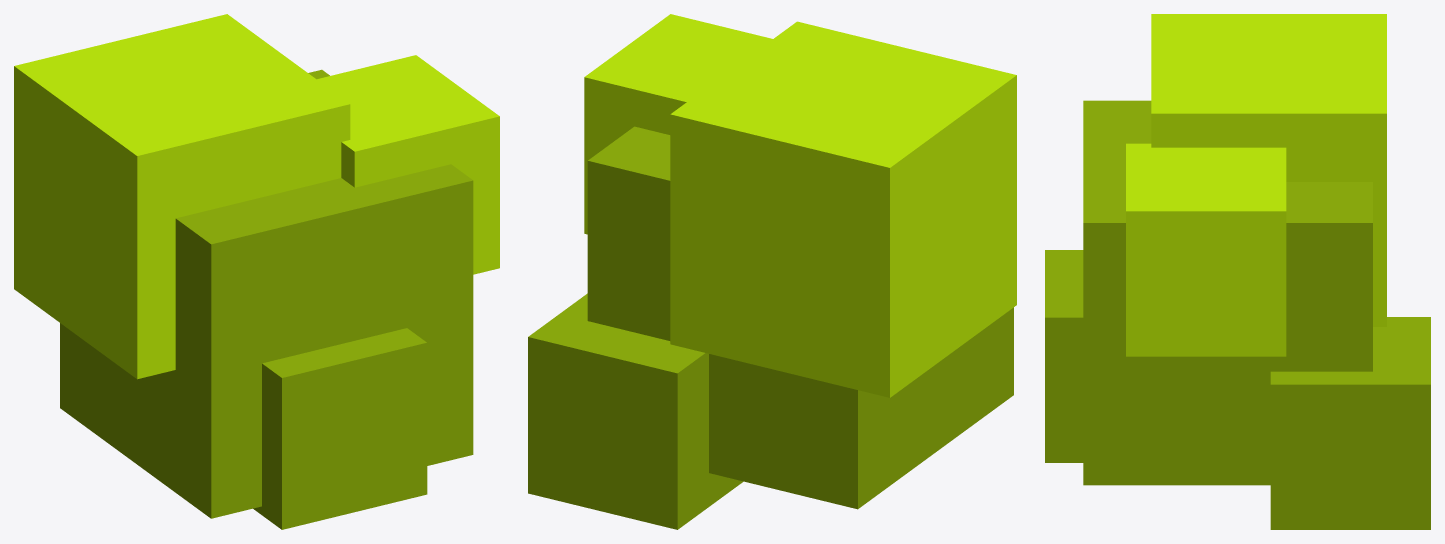
Rendered from bush_1.fbx.
3 renders of one model, left to right at view 1: azimuth 30°, elevation 25°; view 2: azimuth 150°, elevation 25°; view 3: azimuth 270°, elevation 25°, orthographic. The views are drawn at different scales.
Parts seen in each view (by area): view 1: Cube.004; view 2: Cube.004; view 3: Cube.004.
Boxes of the visible parts, box(x1,y1,x2,y2) form: Cube.004: box(14, 14, 499, 529); Cube.004: box(528, 14, 1016, 529); Cube.004: box(1045, 14, 1430, 529).
Bounding box in the file's own units: 450 × 466 × 450.
